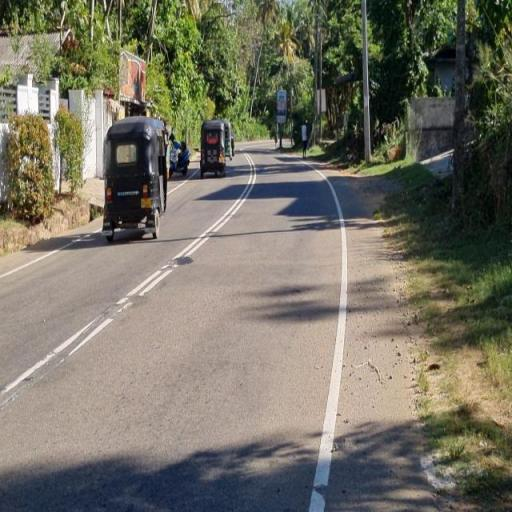double_white_line: (114, 152, 258, 310)
